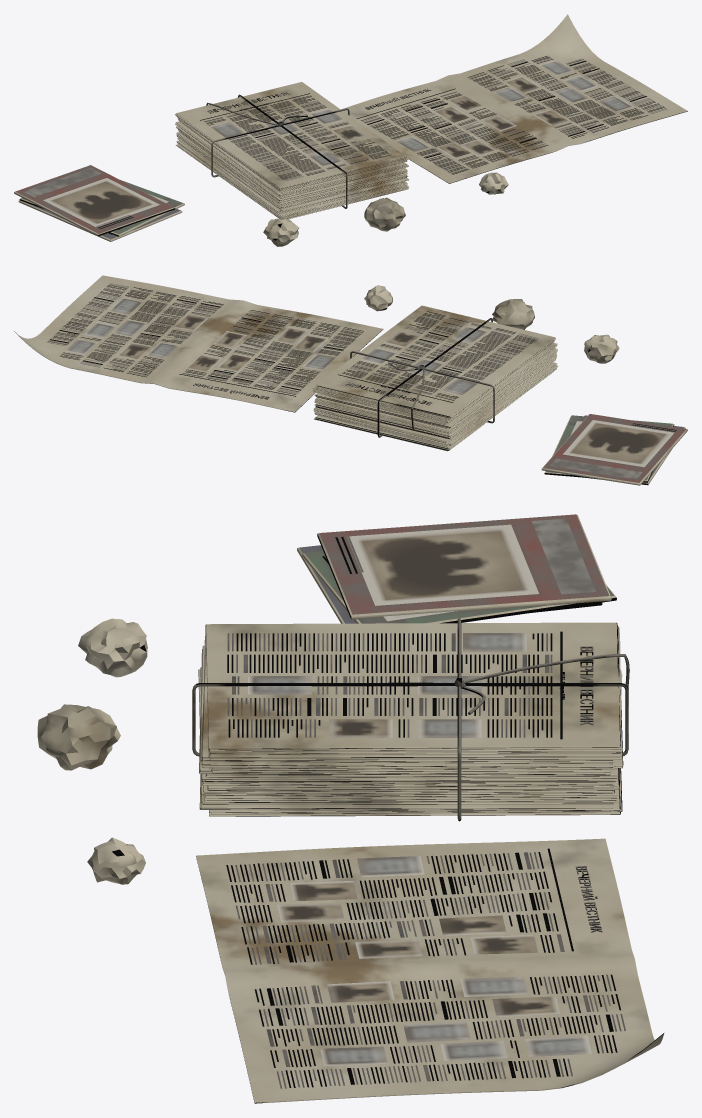
File: SM_Newspaper_Stack.fbx
The picture shows the model from 3 angles, top to bottom: view 1: azimuth 30°, elevation 25°; view 2: azimuth 150°, elevation 25°; view 3: azimuth 270°, elevation 25°; orthographic projection. The views are drawn at different scales.
Visible parts, largest first — view 1: SM_Newspaper_Stack; view 2: SM_Newspaper_Stack; view 3: SM_Newspaper_Stack.
Boxes of the visible parts, x1,y1,x2,y2 form: SM_Newspaper_Stack: [14, 14, 687, 246]; SM_Newspaper_Stack: [14, 275, 687, 485]; SM_Newspaper_Stack: [37, 514, 664, 1103].
Bounding box in the file's own units: 1.4 × 0.0874 × 0.6392.
Materials: 1 (1 with a texture image).
